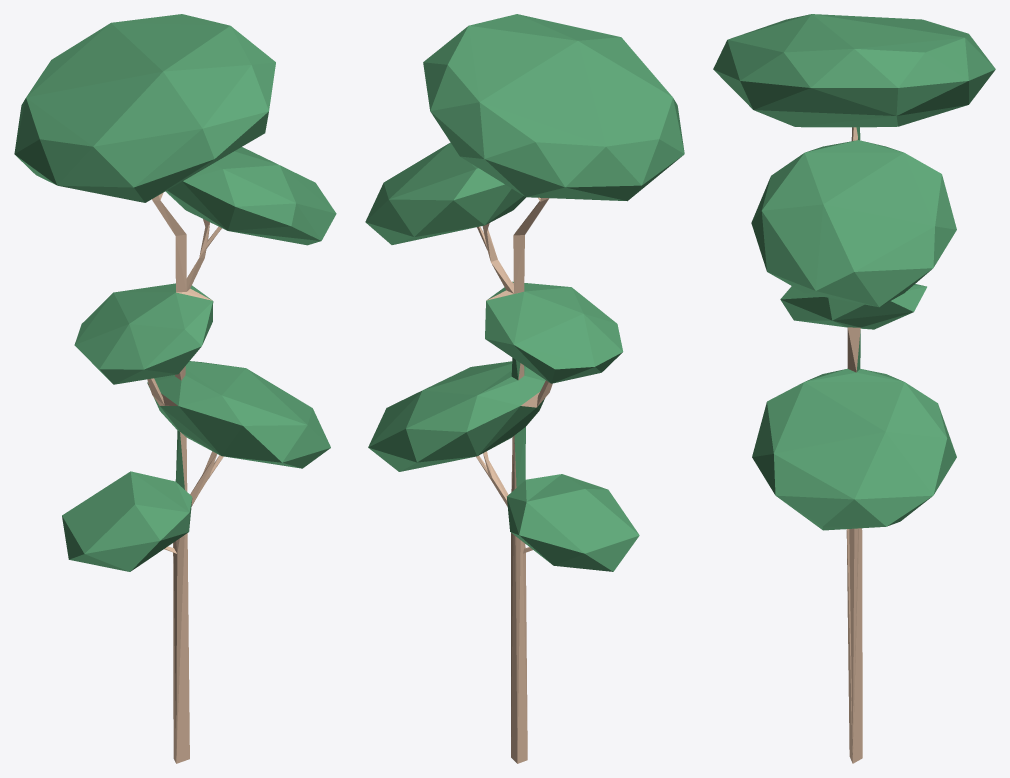
Rendered from tree32.fbx.
3 renders of one model, left to right at view 1: azimuth 30°, elevation 25°; view 2: azimuth 150°, elevation 25°; view 3: azimuth 270°, elevation 25°, orthographic.
Parts seen in each view (by area): view 1: treetype32; view 2: treetype32; view 3: treetype32.
Part boxes in pixels (box(x1,y1,x2,y2)): treetype32: box(14, 14, 336, 763); treetype32: box(365, 14, 684, 763); treetype32: box(713, 14, 995, 763).
Size of the model in its own units: 96.78 by 237 by 82.64.
